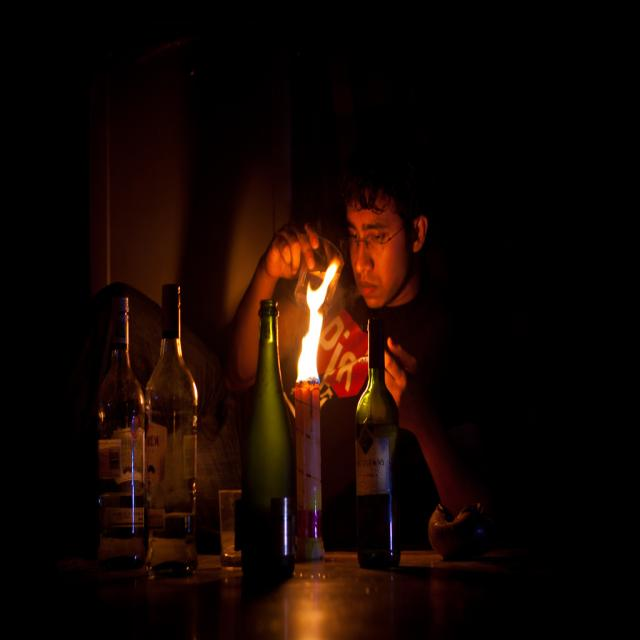Bottle: (237, 288, 307, 594), (87, 280, 148, 569), (145, 271, 200, 574), (351, 299, 401, 571)
Cup: (295, 219, 345, 322), (212, 483, 247, 576)
People: (226, 121, 489, 527)
Table: (36, 509, 607, 640)
